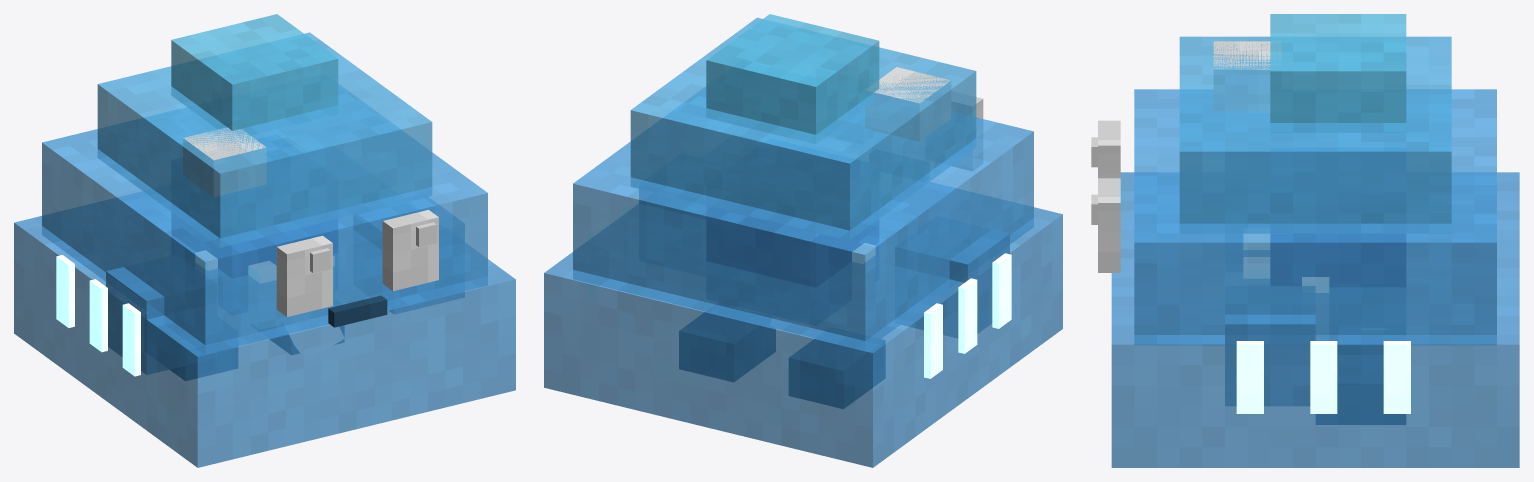
Rendered from slime_blue_evo1.glb.
3 views of the same model, side by side, from view 1: azimuth 30°, elevation 25°; view 2: azimuth 150°, elevation 25°; view 3: azimuth 270°, elevation 25° (orthographic). The views are drawn at different scales.
Parts seen in each view (by area): view 1: Torso, Head, ArmR, ArmL, Root, LegR; view 2: Torso, ArmR, LegR, LegL, Head, ArmL; view 3: Torso, ArmL, Head, LegL, Root, LegR.
Boxes of the visible parts, x1,y1,x2,y2 form: Torso: (14, 14, 515, 467); Head: (276, 210, 438, 327); ArmR: (106, 255, 216, 374); ArmL: (354, 197, 464, 313); Root: (196, 251, 344, 359); LegR: (170, 347, 237, 380); Torso: (544, 14, 1062, 467); ArmR: (895, 216, 1009, 337); LegR: (789, 339, 884, 408); LegL: (679, 312, 775, 381); Head: (952, 91, 983, 170); ArmL: (639, 189, 705, 218); Torso: (1111, 14, 1519, 467); ArmL: (1225, 286, 1315, 406); Head: (1091, 120, 1120, 272); LegL: (1316, 355, 1405, 424); Root: (1244, 234, 1328, 292); LegR: (1338, 345, 1382, 354).
Bounding box in the file's own units: 0.9375 × 0.825 × 0.945.
Materials: 11 (11 with a texture image).
